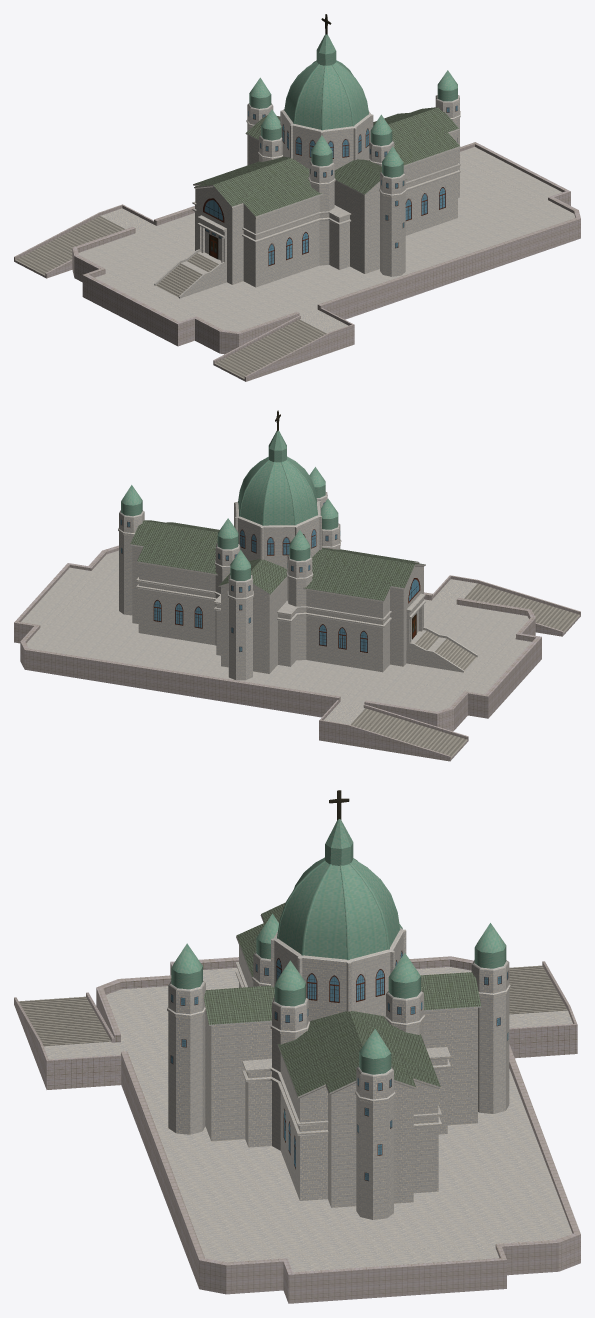
Rendered from Canada_track_landmark_03.dae.
The picture shows the model from 3 angles, top to bottom: view 1: azimuth 30°, elevation 25°; view 2: azimuth 150°, elevation 25°; view 3: azimuth 270°, elevation 25°; orthographic projection. The views are drawn at different scales.
Parts seen in each view (by area): view 1: polySurface30; view 2: polySurface30; view 3: polySurface30.
Boxes of the visible parts, x1,y1,x2,y2 form: polySurface30: (14, 14, 580, 381); polySurface30: (14, 410, 580, 761); polySurface30: (14, 790, 580, 1303).
Bounding box in the file's own units: 19.03 × 13.59 × 9.28.
4 materials, 4 textured.
